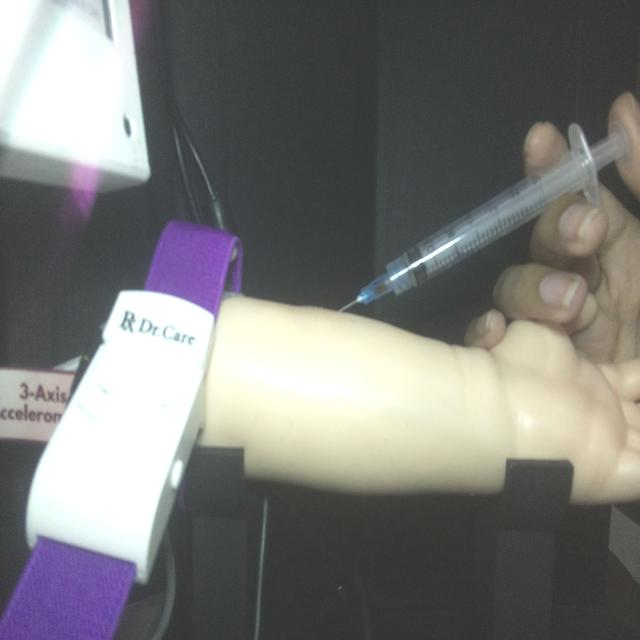22 degrees: (336, 117, 632, 314)
